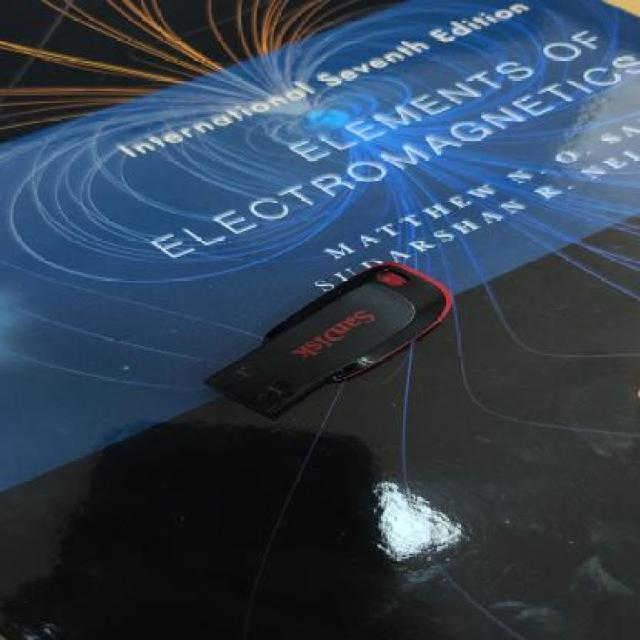Flashdisk: (198, 258, 459, 420)
